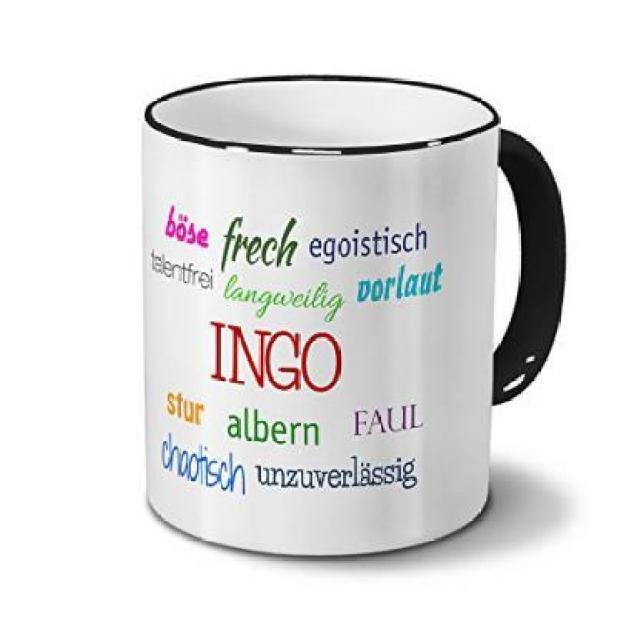taza: (140, 73, 570, 560)
